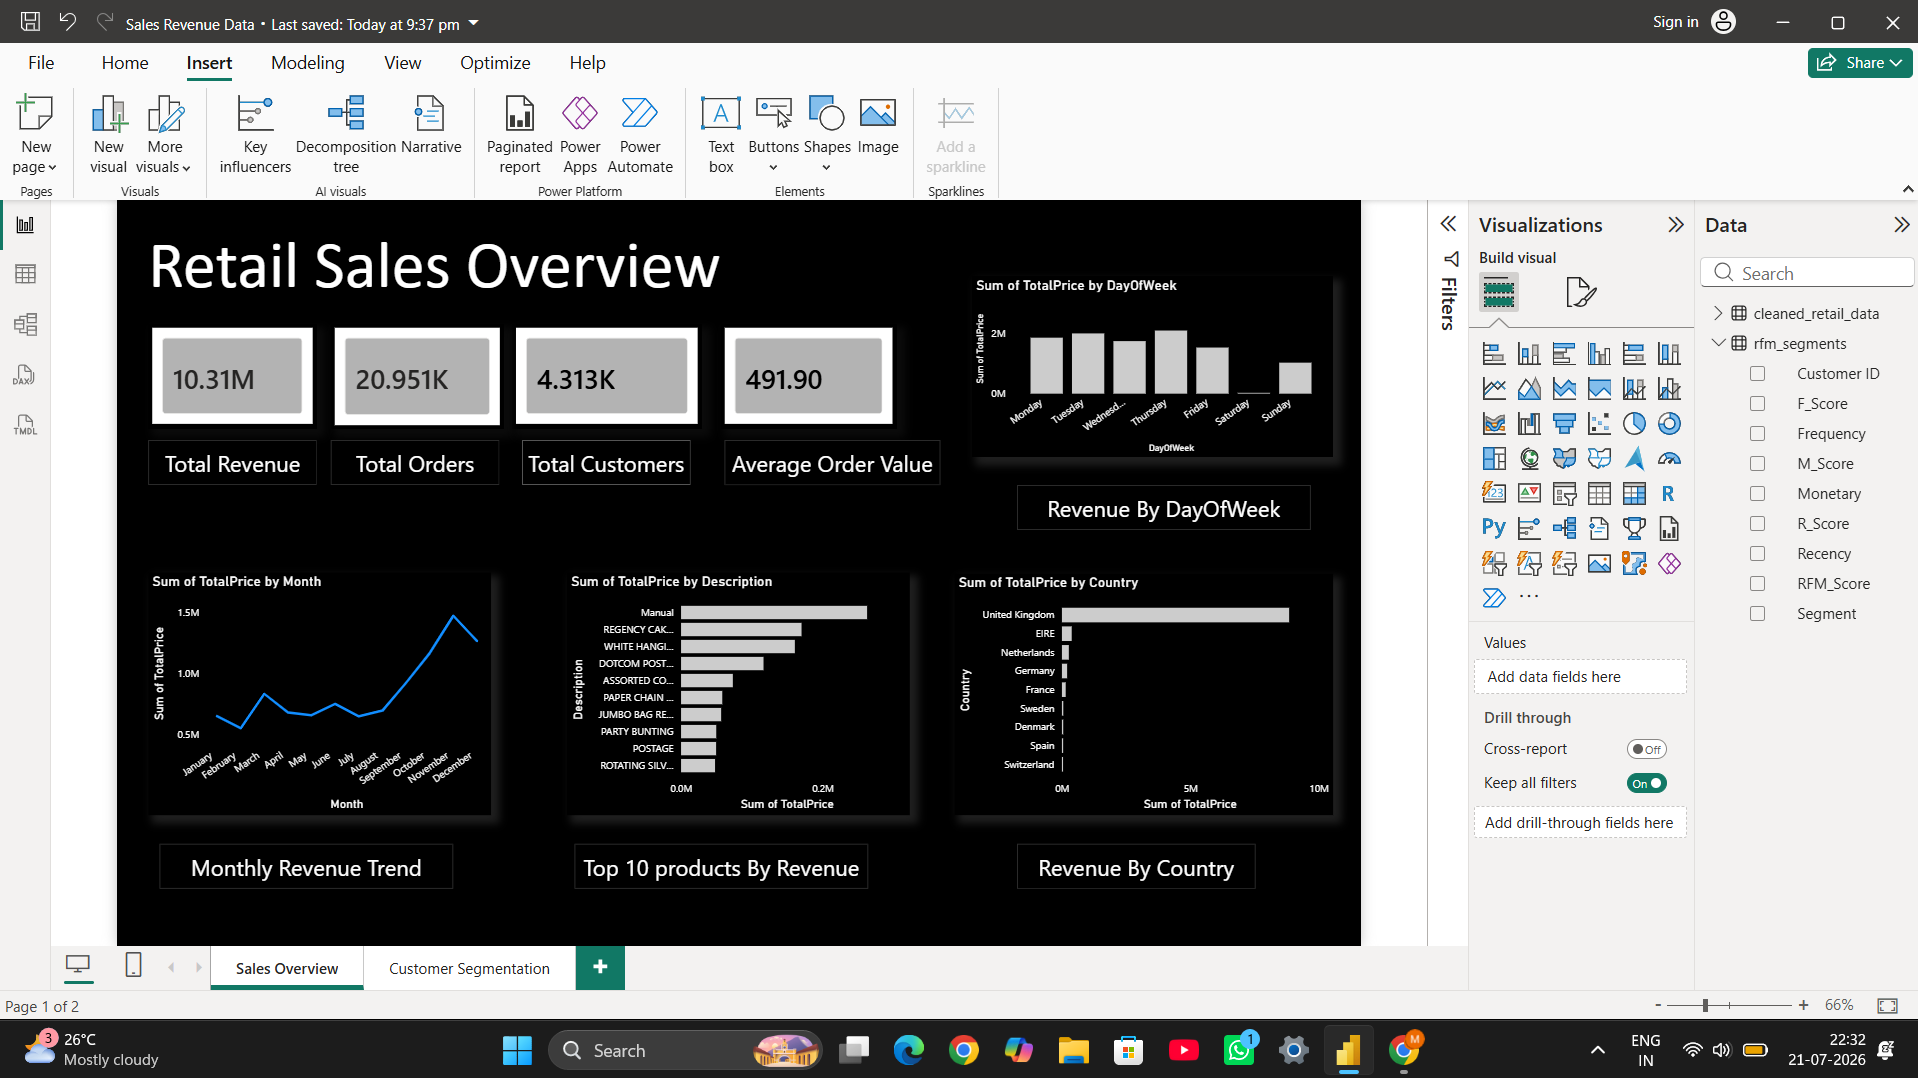

The dashboard page shown, as its layout file describes it:
{"tool":"powerbi","page":{"name":"Sales Overview","canvas":[1500,900],"ordinal":0},"visuals":[{"type":"cardVisual","fields":{"Data":["Sum(cleaned_retail_data.TotalPrice)"]},"box":[37.7,149.3,203.6,126.7],"z":0},{"type":"cardVisual","fields":{"Data":["Count(cleaned_retail_data.Invoice)"]},"box":[257.3,149.6,209,127],"z":1000},{"type":"cardVisual","fields":{"Data":["Count(cleaned_retail_data.Customer ID)"]},"box":[476.5,149.3,229.2,126.7],"z":2000},{"type":"cardVisual","fields":{"Data":["cleaned_retail_data.Average Order Value"]},"box":[728.4,149.3,212.6,126.7],"z":3000},{"type":"lineChart","fields":{"Category":["cleaned_retail_data.InvoiceDate.Variation.Date Hierarchy.Month"],"Y":["Sum(cleaned_retail_data.TotalPrice)"]},"box":[37.7,449.4,413.2,292.6],"z":4000},{"type":"clusteredBarChart","fields":{"Category":["cleaned_retail_data.Description"],"Y":["Sum(cleaned_retail_data.TotalPrice)"]},"box":[542.9,449.4,413.2,292.6],"z":5000},{"type":"clusteredBarChart","fields":{"Category":["cleaned_retail_data.Country"],"Y":["Sum(cleaned_retail_data.TotalPrice)"]},"box":[1009.9,450.3,456.7,291.1],"z":6000},{"type":"clusteredColumnChart","fields":{"Category":["cleaned_retail_data.DayOfWeek"],"Y":["Sum(cleaned_retail_data.TotalPrice)"]},"box":[1031.5,92,435.8,218.7],"z":7000},{"type":"shape","title":"Retail Sales Overview","box":[37.7,28.7,734.4,102.5],"z":8000},{"type":"shape","box":[37.7,289.5,203.6,54.3],"z":8001},{"type":"shape","box":[257.9,289.5,203.6,54.3],"z":8002},{"type":"shape","box":[488.6,289.5,203.6,54.3],"z":8003},{"type":"shape","box":[733.3,289.5,260.5,54.7],"z":8004},{"type":"shape","box":[1085.8,343.8,354.4,54.3],"z":8005},{"type":"shape","box":[51.3,776.6,354.4,54.3],"z":8006},{"type":"shape","box":[551.9,776.6,354.4,54.3],"z":8007},{"type":"shape","box":[1085.4,776.7,287.8,54.7],"z":8008}]}

Visuals, with their boxes on the page's 1500x900 design canvas (x1, y1, x2, y2). These are canvas units, not pixel positions in the 1918x1078 screenshot, which may show the page scaled, cropped or inside an application window:
cardVisual - Sum(cleaned_retail_data.TotalPrice): [left=38, top=149, right=241, bottom=276]
cardVisual - Count(cleaned_retail_data.Invoice): [left=257, top=150, right=466, bottom=277]
cardVisual - Count(cleaned_retail_data.Customer ID): [left=476, top=149, right=706, bottom=276]
cardVisual - cleaned_retail_data.Average Order Value: [left=728, top=149, right=941, bottom=276]
lineChart - cleaned_retail_data.InvoiceDate.Variation.Date Hierarchy.Month x Sum(cleaned_retail_data.TotalPrice): [left=38, top=449, right=451, bottom=742]
clusteredBarChart - cleaned_retail_data.Description x Sum(cleaned_retail_data.TotalPrice): [left=543, top=449, right=956, bottom=742]
clusteredBarChart - cleaned_retail_data.Country x Sum(cleaned_retail_data.TotalPrice): [left=1010, top=450, right=1467, bottom=741]
clusteredColumnChart - cleaned_retail_data.DayOfWeek x Sum(cleaned_retail_data.TotalPrice): [left=1032, top=92, right=1467, bottom=311]
"Retail Sales Overview" shape: [left=38, top=29, right=772, bottom=131]
shape: [left=38, top=290, right=241, bottom=344]
shape: [left=258, top=290, right=462, bottom=344]
shape: [left=489, top=290, right=692, bottom=344]
shape: [left=733, top=290, right=994, bottom=344]
shape: [left=1086, top=344, right=1440, bottom=398]
shape: [left=51, top=777, right=406, bottom=831]
shape: [left=552, top=777, right=906, bottom=831]
shape: [left=1085, top=777, right=1373, bottom=831]
